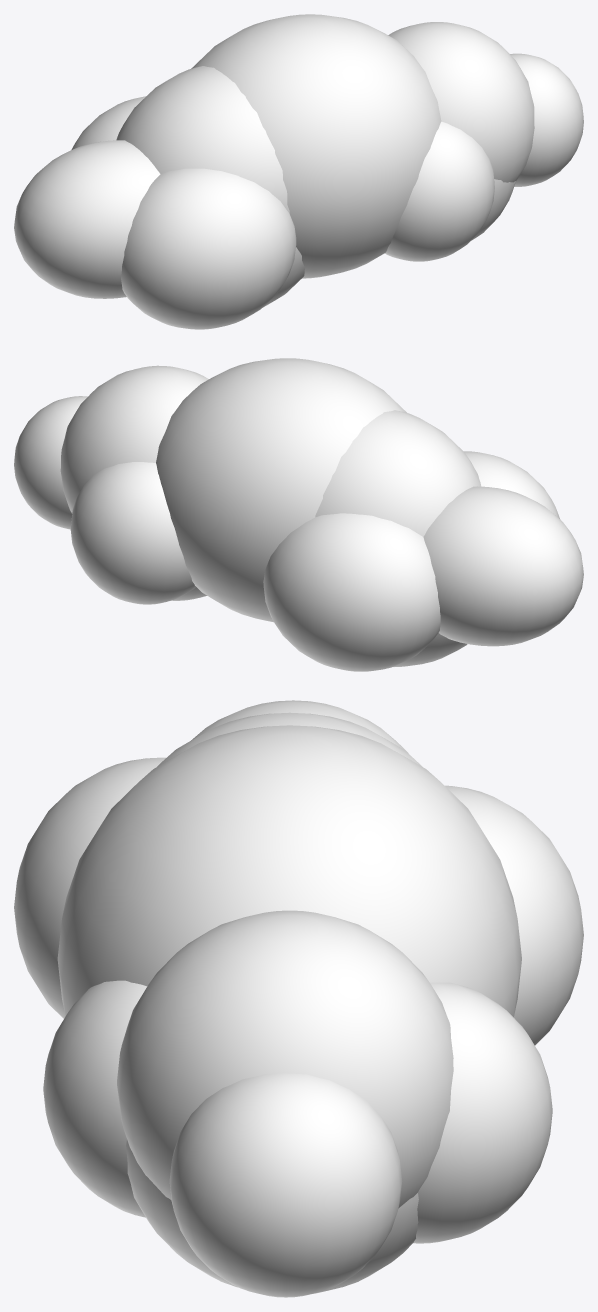
File: Nuvem04.glb
The picture shows the model from 3 angles, top to bottom: view 1: azimuth 30°, elevation 25°; view 2: azimuth 150°, elevation 25°; view 3: azimuth 270°, elevation 25°; orthographic projection. The views are drawn at different scales.
Parts seen in each view (by area): view 1: Sphere.003; view 2: Sphere.003; view 3: Sphere.003.
Part boxes in pixels (box(x1,y1,x2,y2)): Sphere.003: box(14, 14, 583, 329); Sphere.003: box(14, 358, 583, 671); Sphere.003: box(14, 700, 583, 1297).
Bounding box in the file's own units: 9.04 × 4.08 × 4.66.
1 material, 1 textured.
